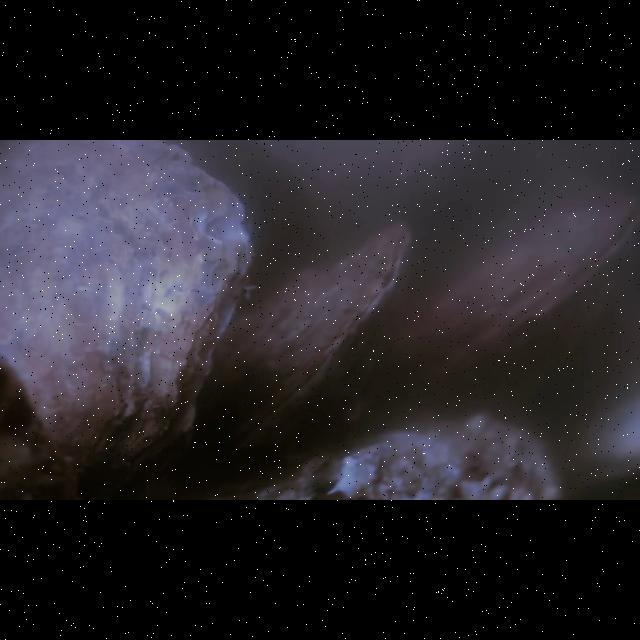Oyster-Closed: (2, 143, 261, 470), (375, 190, 640, 383), (209, 217, 418, 451), (267, 412, 569, 495)
